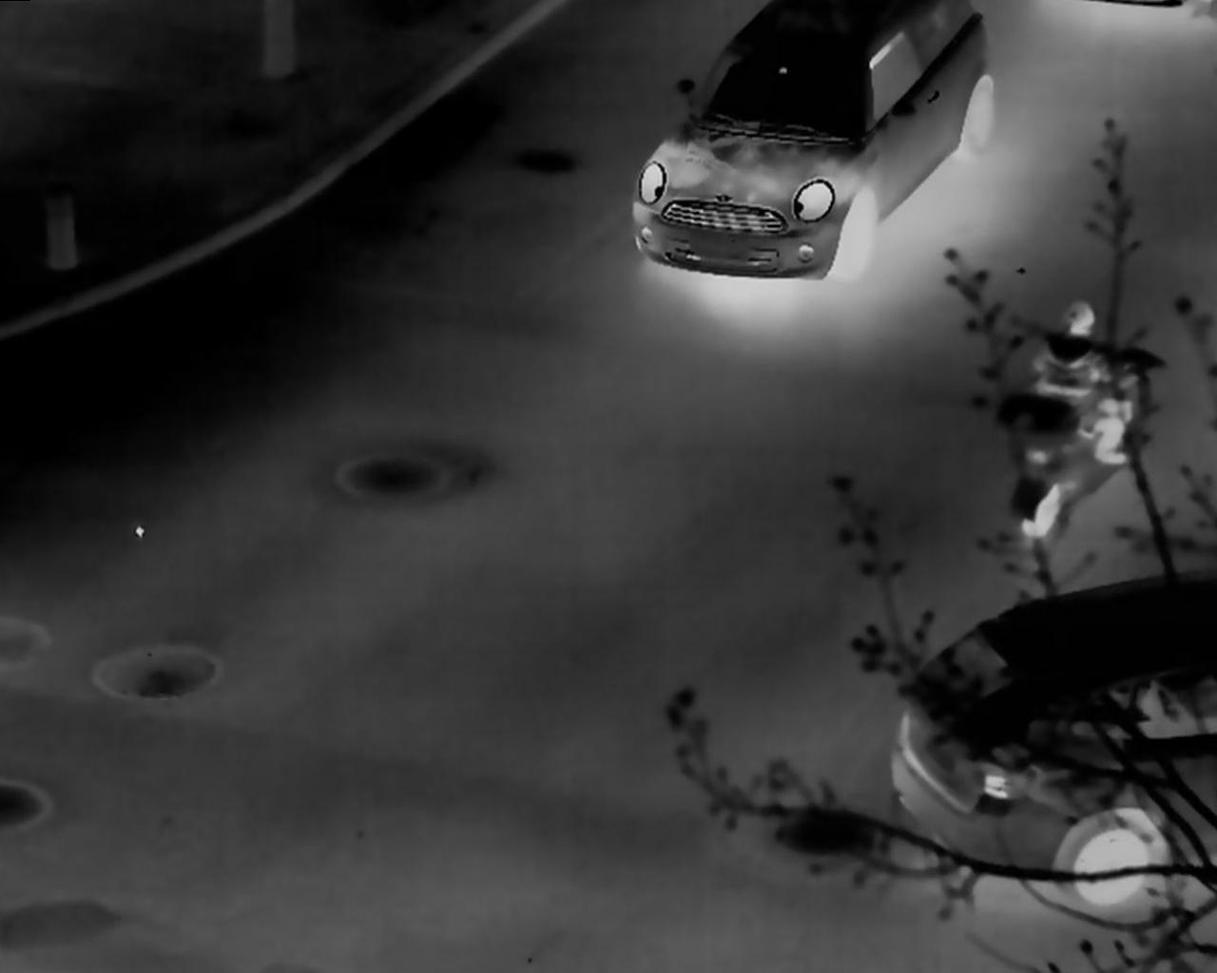person: (1043, 301, 1135, 494)
